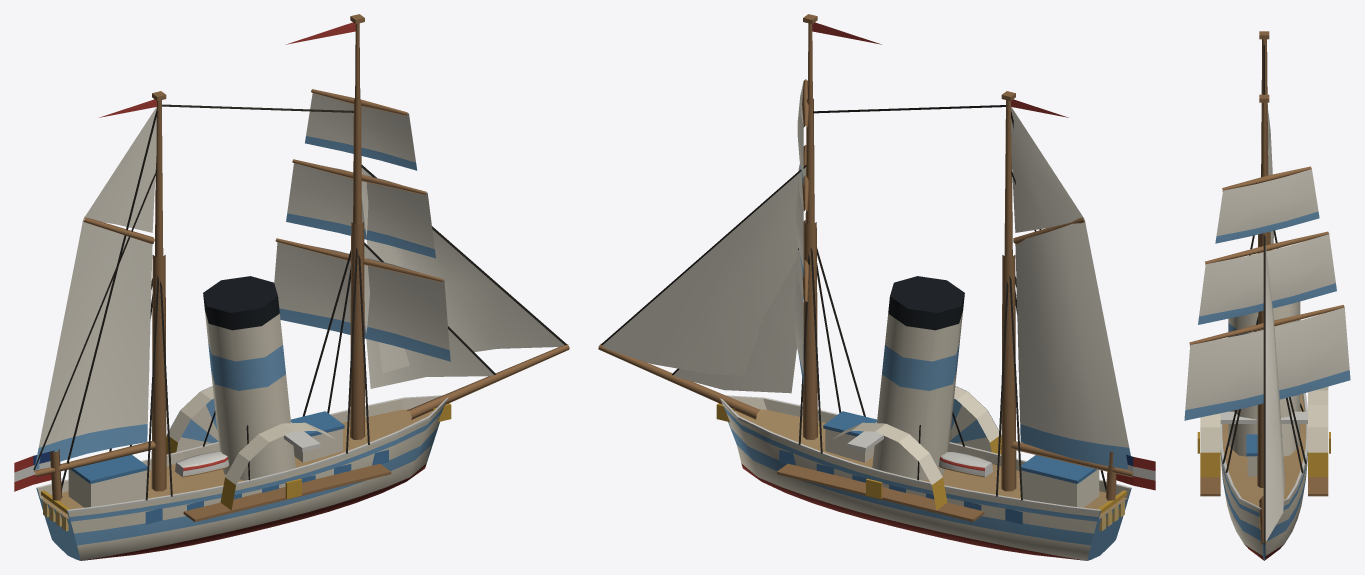
Rendered from titan_usds.glb.
3 renders of one model, left to right at view 1: azimuth 30°, elevation 25°; view 2: azimuth 150°, elevation 25°; view 3: azimuth 270°, elevation 25°, orthographic. The views are drawn at different scales.
Visible parts, largest first — view 1: deck, sail_extra, sail_main, hull, sail_jib, mast, rigging, yards, boom_spar, flag; view 2: deck, sail_main, hull, sail_jib, mast, rigging, sail_extra, flag, yards, boom_spar; view 3: sail_extra, deck, hull, sail_jib, mast, yards, rigging, sail_main.
Boxes of the visible parts, x1,y1,x2,y2 form: deck: (68,276,391,521); sail_extra: (274,93,450,361); sail_main: (35,107,156,469); hull: (36,395,451,560); sail_jib: (361,168,564,388); mast: (50,14,569,500); rigging: (61,104,566,500); yards: (275,89,442,282); boom_spar: (33,170,157,476); flag: (14,22,355,491); deck: (777,276,1099,521); sail_main: (1011,106,1130,469); hull: (716,395,1131,560); sail_jib: (602,167,805,393); mast: (598,14,1116,500); rigging: (601,105,1106,500); sail_extra: (793,81,803,385); flag: (812,22,1155,490); yards: (802,79,809,302); boom_spar: (1011,171,1132,477); sail_extra: (1184,169,1350,420); deck: (1197,301,1330,496); hull: (1220,393,1307,560); sail_jib: (1265,245,1284,540); mast: (1257,31,1270,544); yards: (1189,166,1344,345); rigging: (1222,45,1306,544); sail_main: (1267,104,1273,243).
Size of the model in its own units: 30.78 by 25.64 by 8.6.
